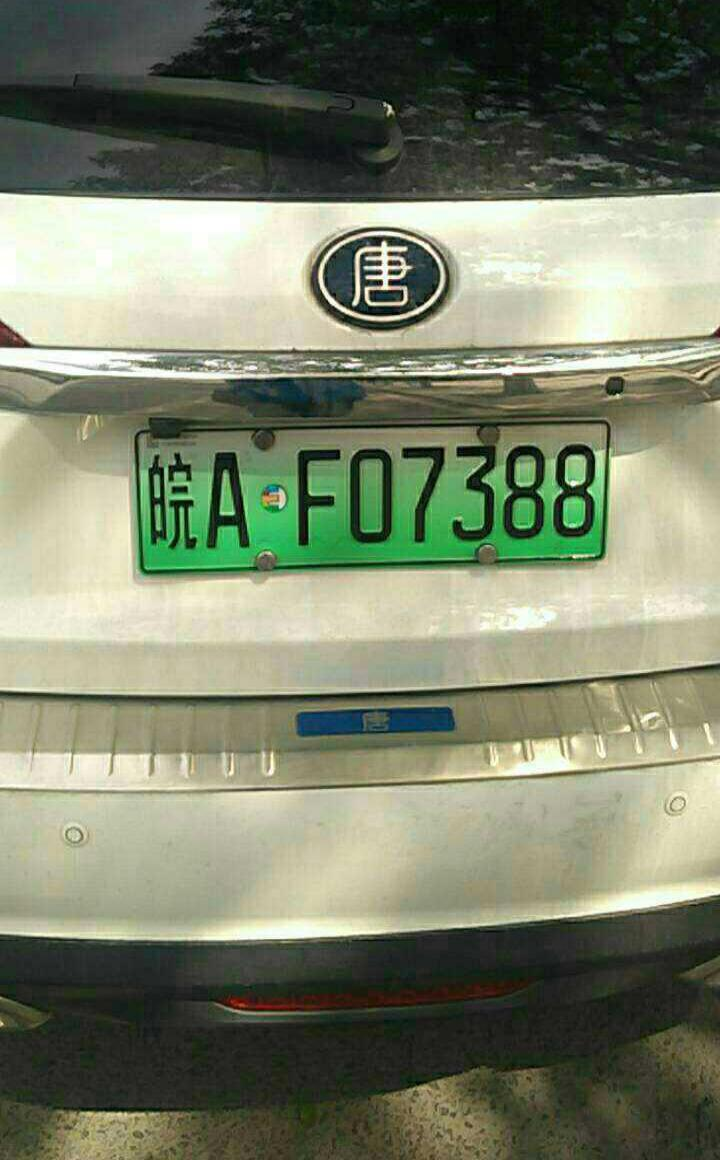car_id: (134, 419, 610, 566)
